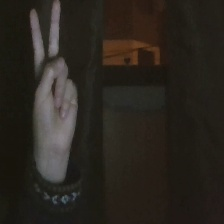V: (20, 1, 86, 158)
